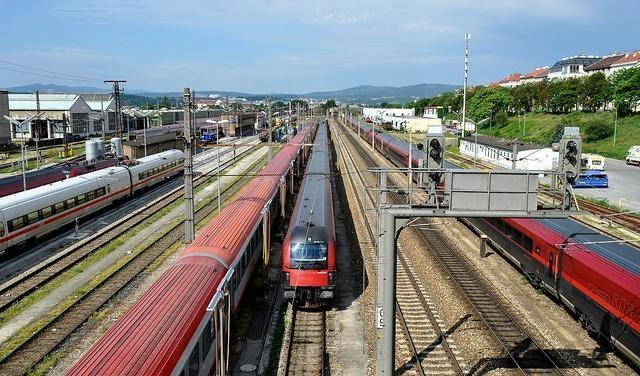bus: (574, 169, 610, 188)
truck: (625, 146, 640, 168)
